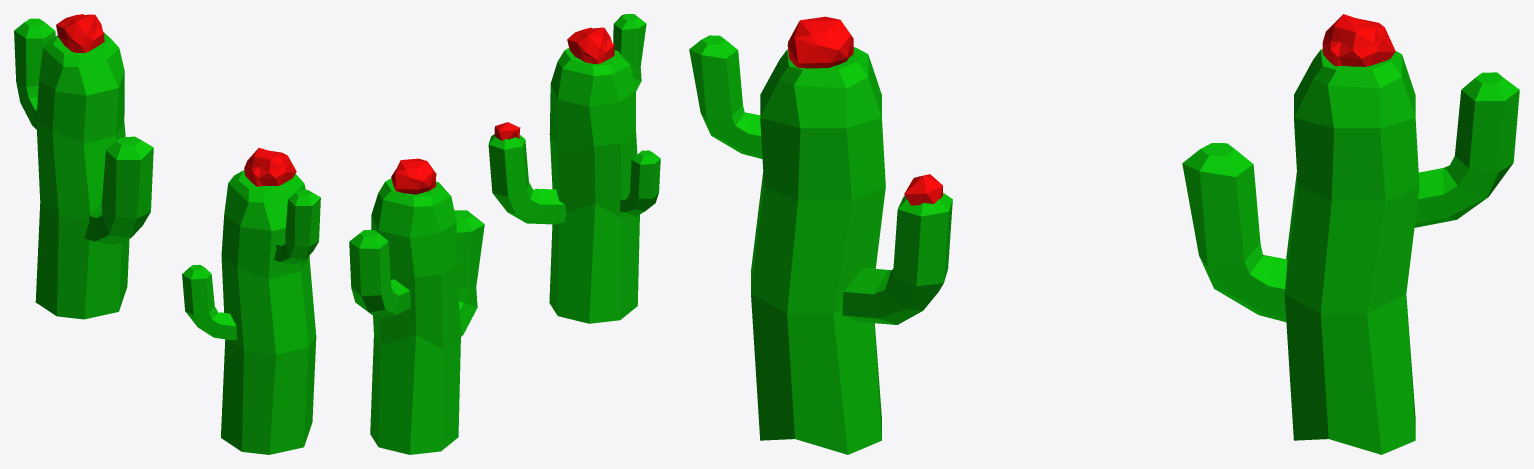
Rendered from cactus.glb.
The picture shows the model from 3 angles, left to right: view 1: azimuth 30°, elevation 25°; view 2: azimuth 150°, elevation 25°; view 3: azimuth 270°, elevation 25°; orthographic projection. The views are drawn at different scales.
Parts seen in each view (by area): view 1: Cube.007, Cube.008; view 2: Cube.008, Cube.007; view 3: Cube.007, Cube.008.
Boxes of the visible parts, left/top/right/bottom form: Cube.007: left=14, top=14, right=153, bottom=319; Cube.008: left=182, top=148, right=320, bottom=454; Cube.008: left=488, top=14, right=660, bottom=323; Cube.007: left=349, top=158, right=484, bottom=454; Cube.007: left=1182, top=14, right=1519, bottom=454; Cube.008: left=689, top=16, right=952, bottom=454.
Size of the model in its own units: 4.34 by 8.1 by 14.93.
